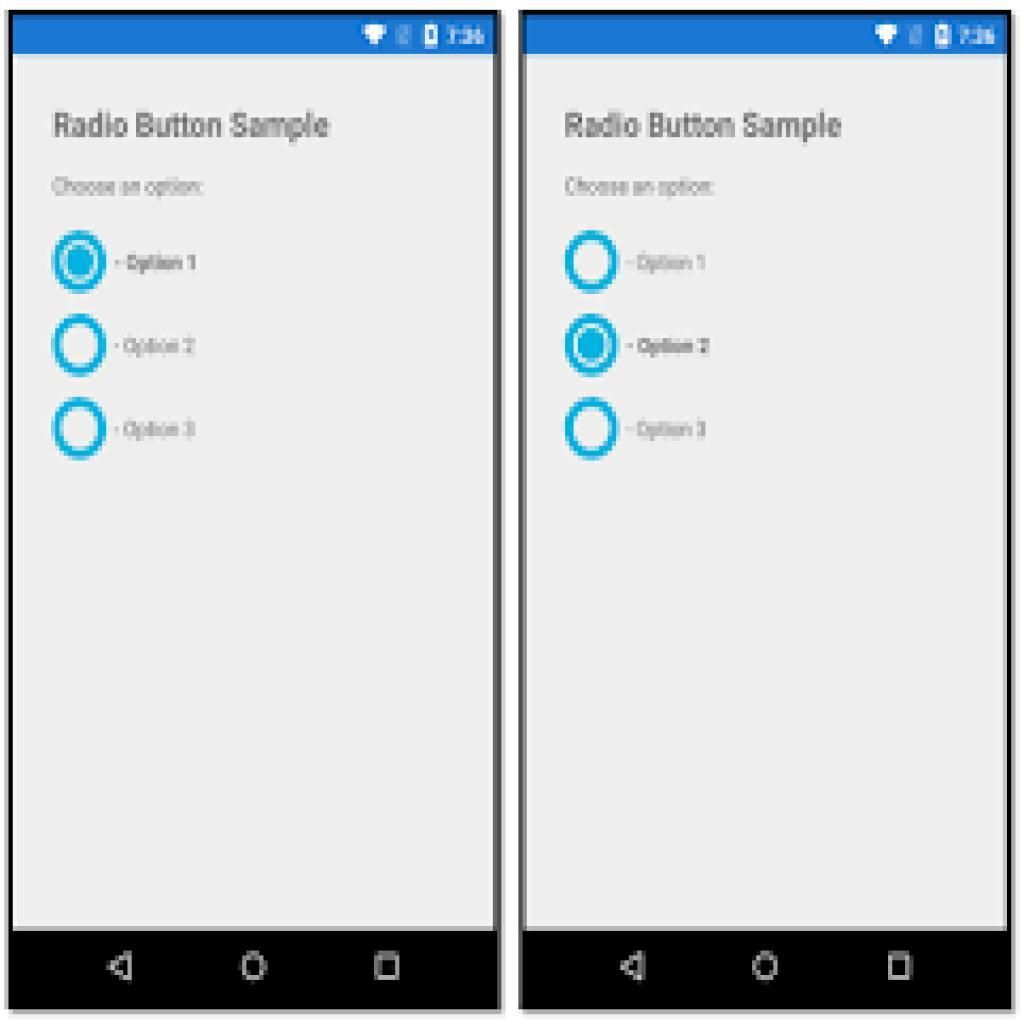label: (561, 107, 847, 147), (51, 107, 335, 147), (635, 330, 717, 364), (124, 248, 203, 283), (635, 248, 711, 281), (635, 417, 712, 448), (121, 417, 199, 447), (122, 334, 199, 363)
radio: (51, 231, 110, 300), (51, 310, 109, 379), (51, 397, 109, 464), (564, 314, 621, 382), (564, 398, 621, 462), (567, 231, 621, 295)
